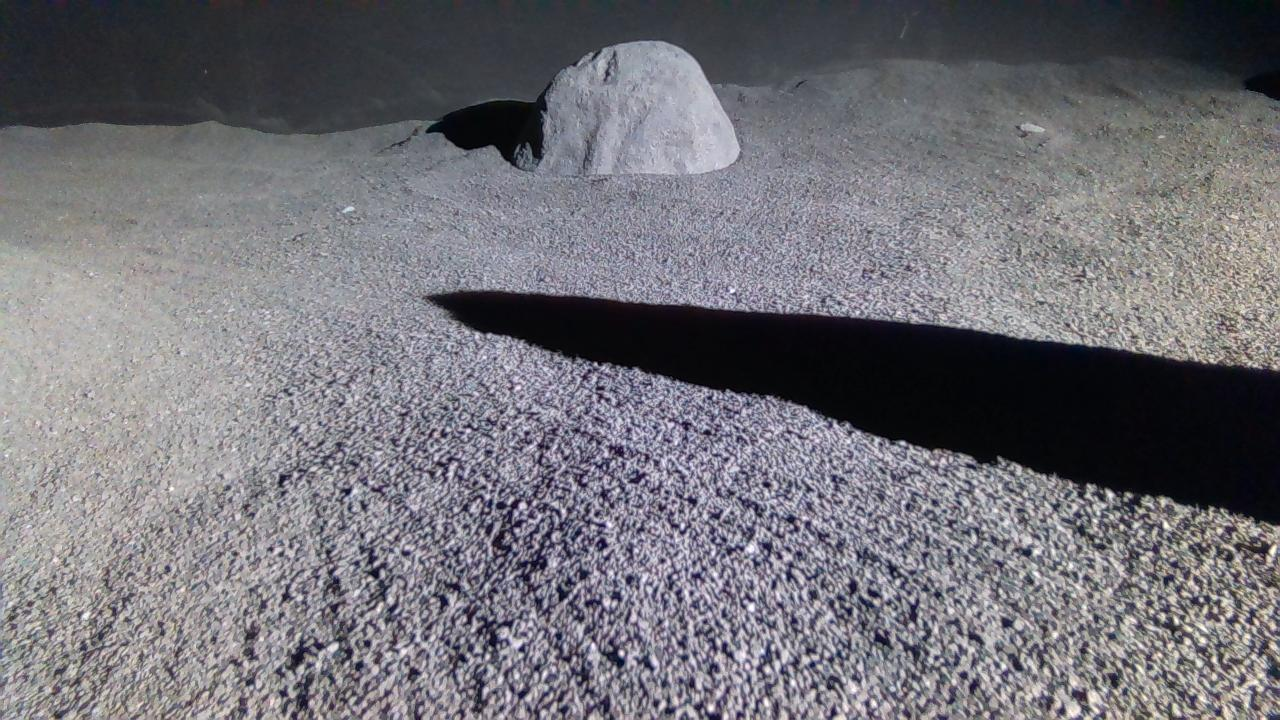rock: (512, 39, 740, 174)
